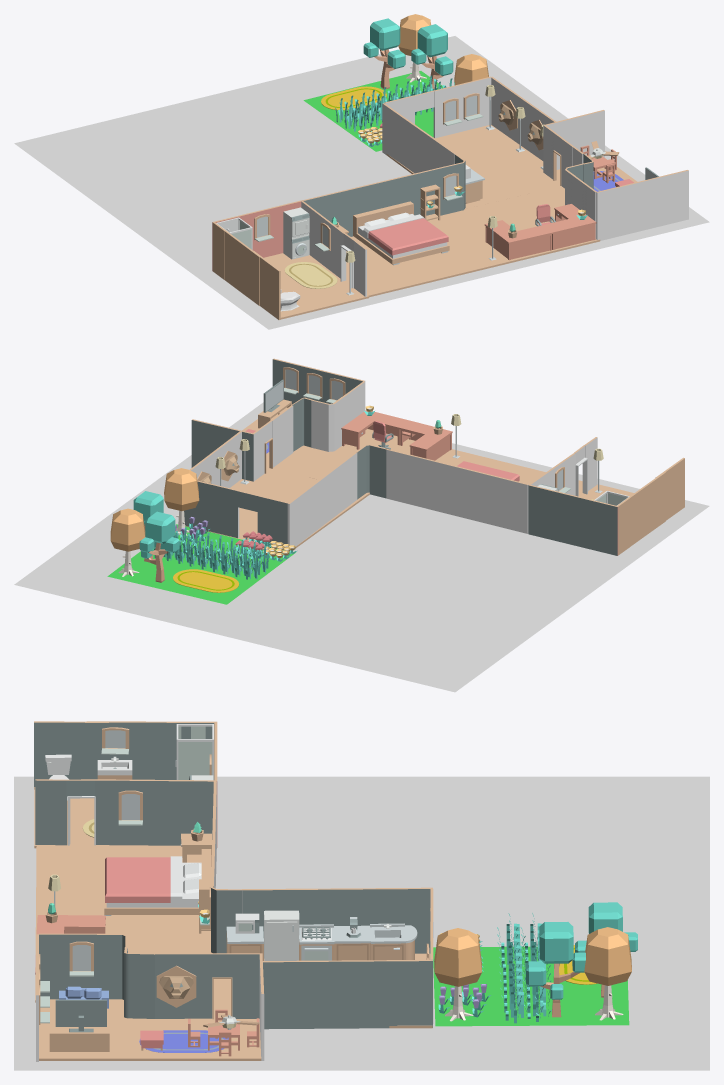
The model's file is livingroom-1651466285852.glb.
3 views of the same model, one above another, from view 1: azimuth 30°, elevation 25°; view 2: azimuth 150°, elevation 25°; view 3: azimuth 270°, elevation 25° (orthographic). The views are drawn at different scales.
Parts seen in each view (by area): view 1: Plane.001, floorFull.003, floorFull.004, wall.007, wall.010, wall.009, wall.006, floorFull.005, wall.008, Plane.004, cover, wall.013 (+20 smaller); view 2: Plane.001, wall.010, wall.012, Plane.004, wall.006, wall.009, floorFull.003, floorFull.004, wall.013, wall.004, wall.005, tree_detailed.001 (+15 smaller); view 3: Plane.001, wall.002, wall.008, floorFull.003, Plane.004, wall.009, wall.004, floorFull.001, cover, wall.011, wall.013, tree_detailed (+29 smaller).
Boxes of the visible parts, bbox=[...] form: Plane.001: bbox=[14, 36, 709, 329]; floorFull.003: bbox=[344, 192, 600, 297]; floorFull.004: bbox=[386, 125, 559, 208]; wall.007: bbox=[596, 170, 688, 240]; wall.010: bbox=[302, 166, 446, 236]; wall.009: bbox=[382, 103, 455, 173]; wall.006: bbox=[384, 76, 491, 138]; floorFull.005: bbox=[264, 253, 368, 319]; wall.008: bbox=[301, 200, 366, 296]; Plane.004: bbox=[303, 71, 442, 151]; cover: bbox=[363, 214, 448, 255]; wall.013: bbox=[222, 229, 260, 305]; Plane.001: bbox=[14, 402, 709, 692]; wall.010: bbox=[386, 449, 528, 533]; wall.012: bbox=[528, 485, 618, 555]; Plane.004: bbox=[107, 524, 295, 604]; wall.006: bbox=[184, 480, 288, 545]; wall.009: bbox=[287, 452, 357, 546]; floorFull.003: bbox=[298, 429, 582, 494]; floorFull.004: bbox=[185, 467, 369, 548]; wall.013: bbox=[626, 472, 665, 546]; wall.004: bbox=[253, 405, 293, 481]; wall.005: bbox=[191, 419, 253, 481]; tree_detailed.001: bbox=[139, 511, 179, 582]; Plane.001: bbox=[14, 776, 709, 1070]; wall.002: bbox=[262, 960, 432, 1029]; wall.008: bbox=[35, 779, 216, 845]; floorFull.003: bbox=[35, 846, 212, 1002]; Plane.004: bbox=[433, 946, 629, 1026]; wall.009: bbox=[242, 887, 432, 953]; wall.004: bbox=[155, 953, 259, 1018]; floorFull.001: bbox=[39, 1018, 261, 1060]; cover: bbox=[105, 856, 182, 903]; wall.011: bbox=[34, 721, 108, 789]; wall.013: bbox=[87, 721, 190, 779]; tree_detailed: bbox=[525, 922, 585, 1017].
Size of the model in its own units: 7.8 by 1.15 by 7.8.
